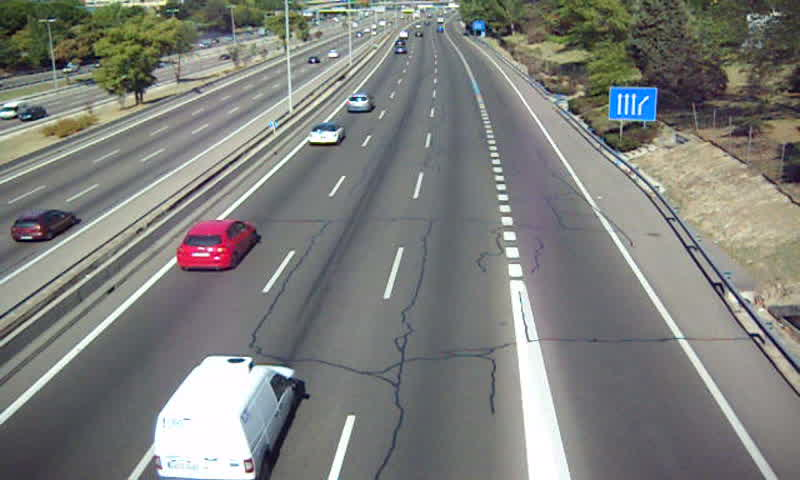car: (177, 221, 257, 271), (308, 124, 344, 146), (347, 91, 375, 112)
van: (152, 356, 294, 480)
